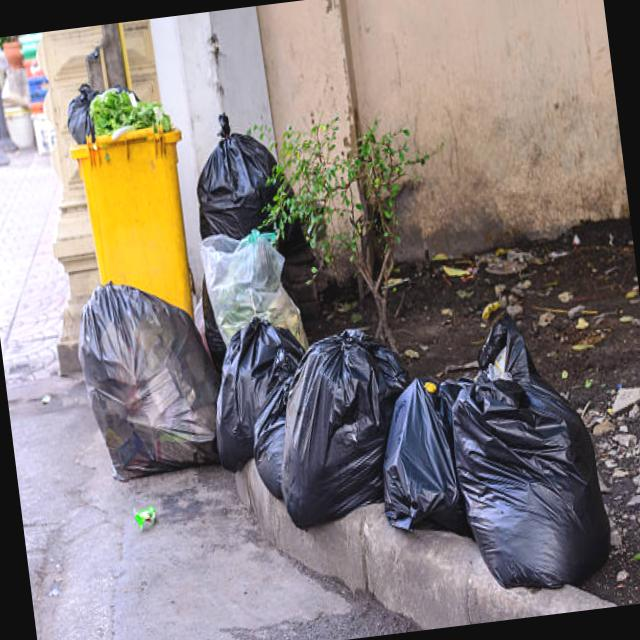garbage: (33, 68, 626, 640)
